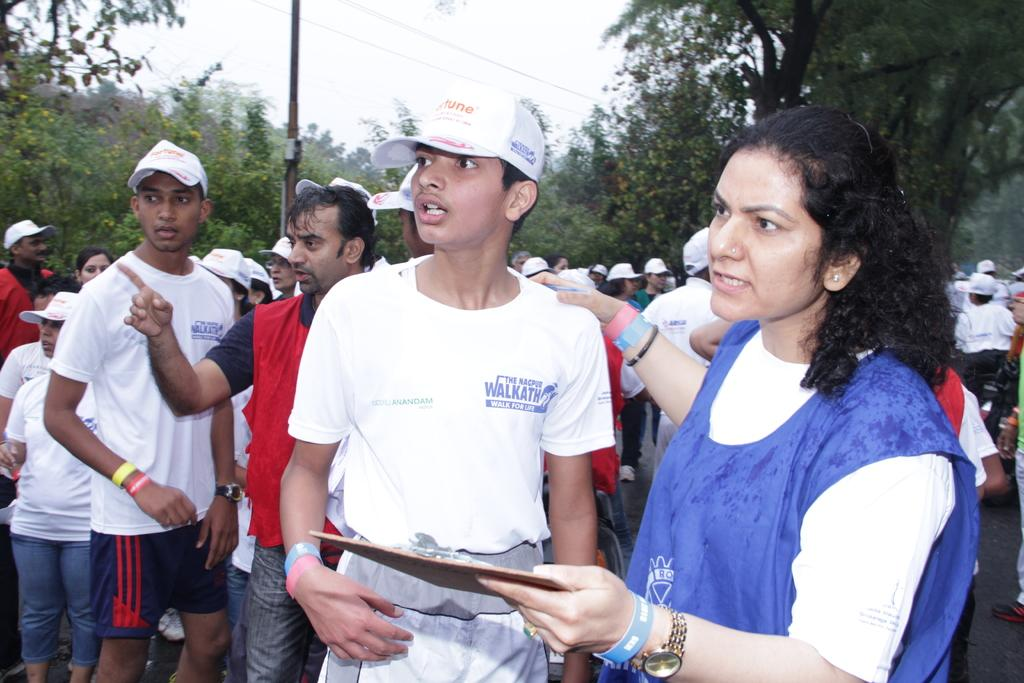Hat: (4, 85, 1023, 321)
